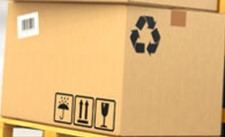stock: (2, 3, 224, 137)
